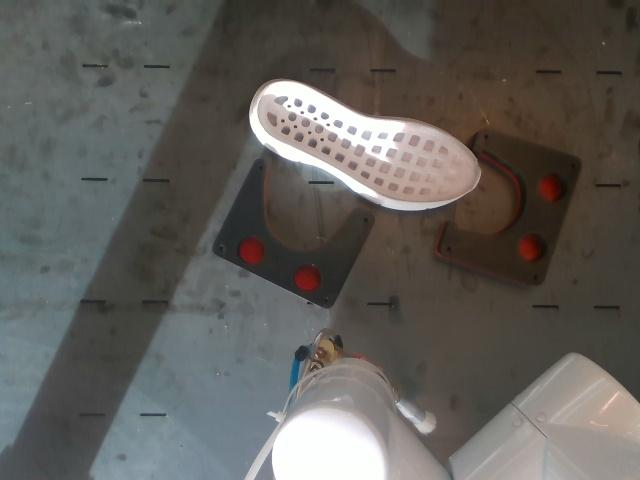shoes: (257, 82, 480, 202)
